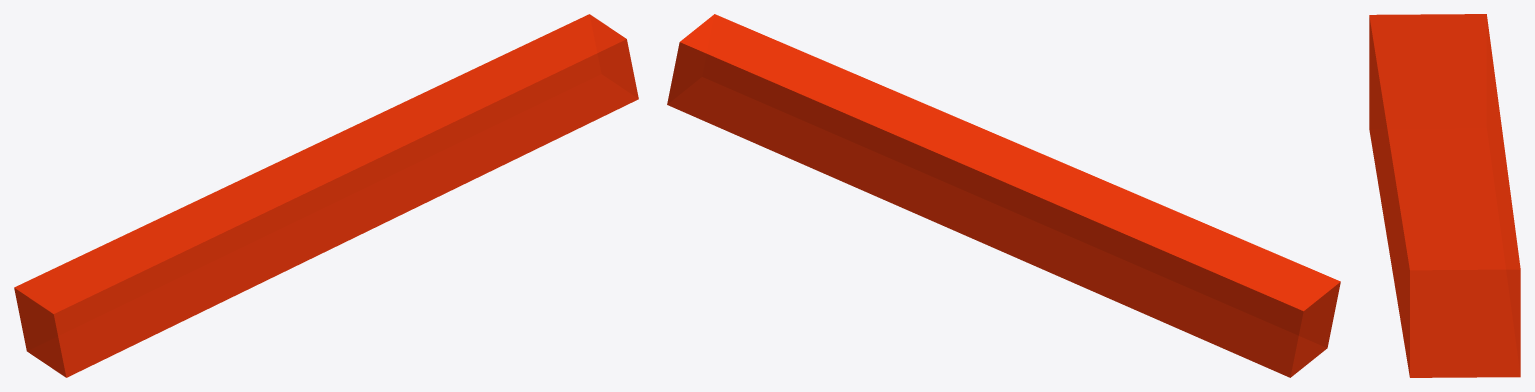
File: Event_420094457_EErechit_29.fbx
3 renders of one model, left to right at view 1: azimuth 30°, elevation 25°; view 2: azimuth 150°, elevation 25°; view 3: azimuth 270°, elevation 25°, orthographic. The views are drawn at different scales.
Parts seen in each view (by area): view 1: Model; view 2: Model; view 3: Model.
Boxes of the visible parts, x1=… form: Model: x1=14, y1=14, x2=638, y2=377; Model: x1=667, y1=14, x2=1340, y2=377; Model: x1=1369, y1=14, x2=1520, y2=377.
Size of the model in its own units: 0.7089 by 0.2143 by 0.0992.
